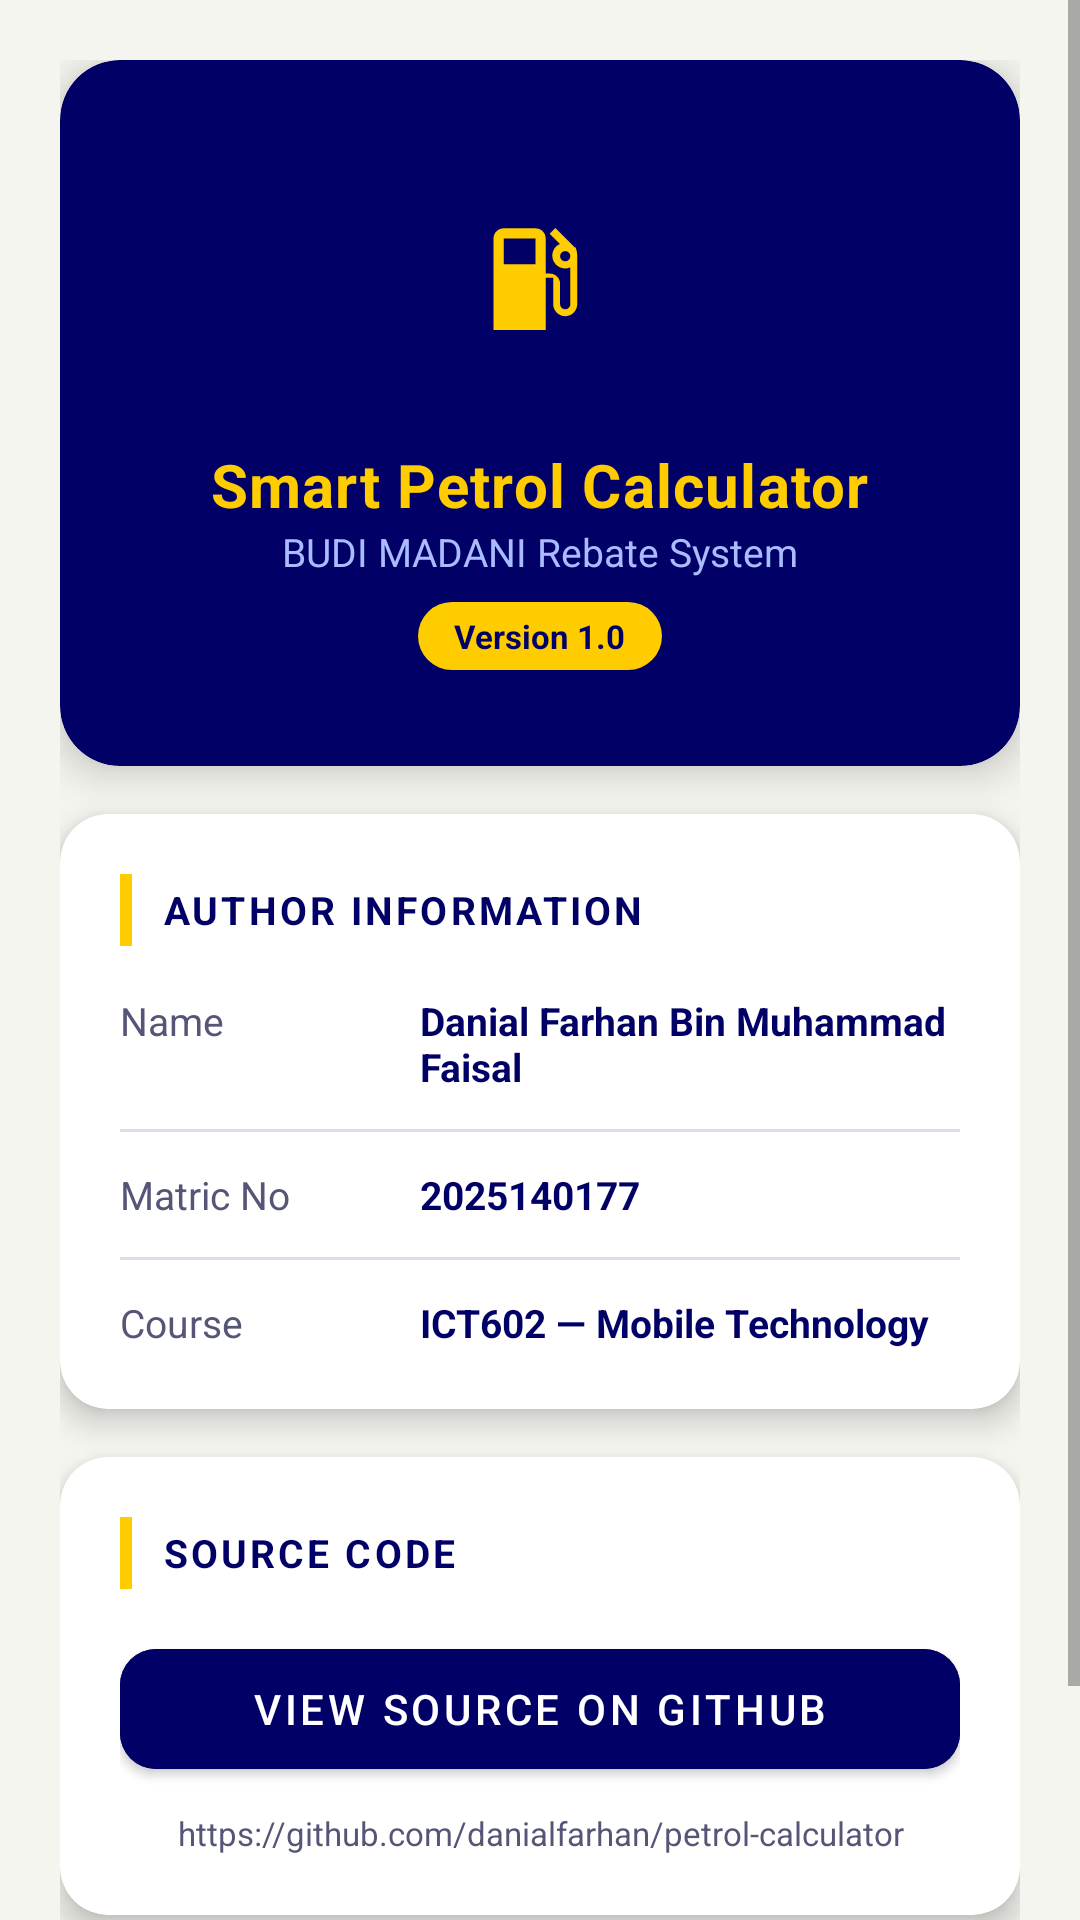

Icons on this 1080 x 1920 Android screen, each with its box as (x1, y1, x2, y2):
App Icon: (493, 228, 578, 330)
